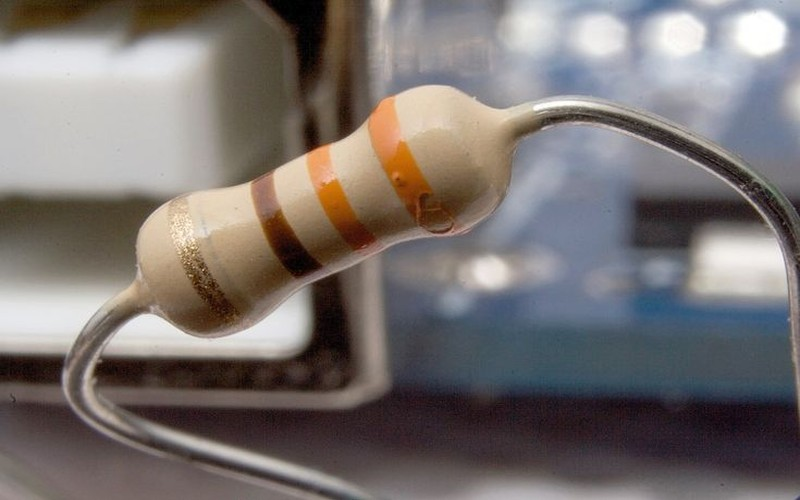Resistor: (94, 52, 570, 355)
